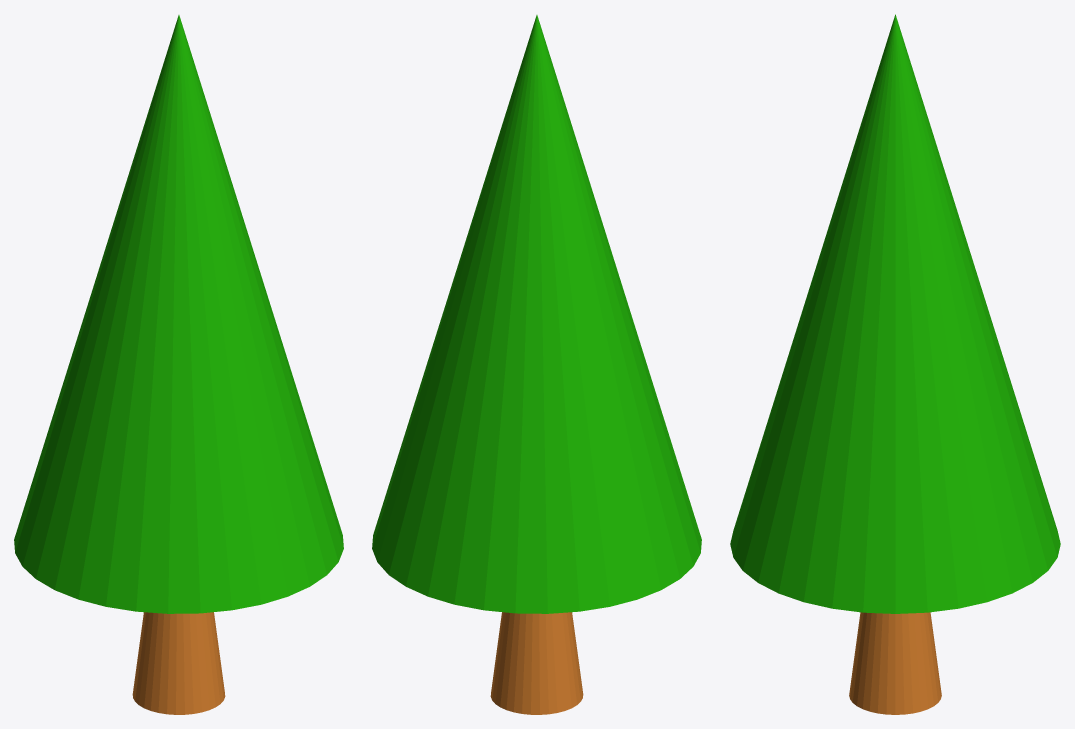
File: chrismas tree.fbx
3 views of the same model, side by side, from view 1: azimuth 30°, elevation 25°; view 2: azimuth 150°, elevation 25°; view 3: azimuth 270°, elevation 25° (orthographic).
Visible parts, largest first — view 1: Charismas tree; view 2: Charismas tree; view 3: Charismas tree.
Boxes of the visible parts, x1,y1,x2,y2 form: Charismas tree: (14, 15, 343, 714); Charismas tree: (372, 15, 701, 714); Charismas tree: (730, 14, 1060, 714).
Bounding box in the file's own units: 200 × 455 × 200.
